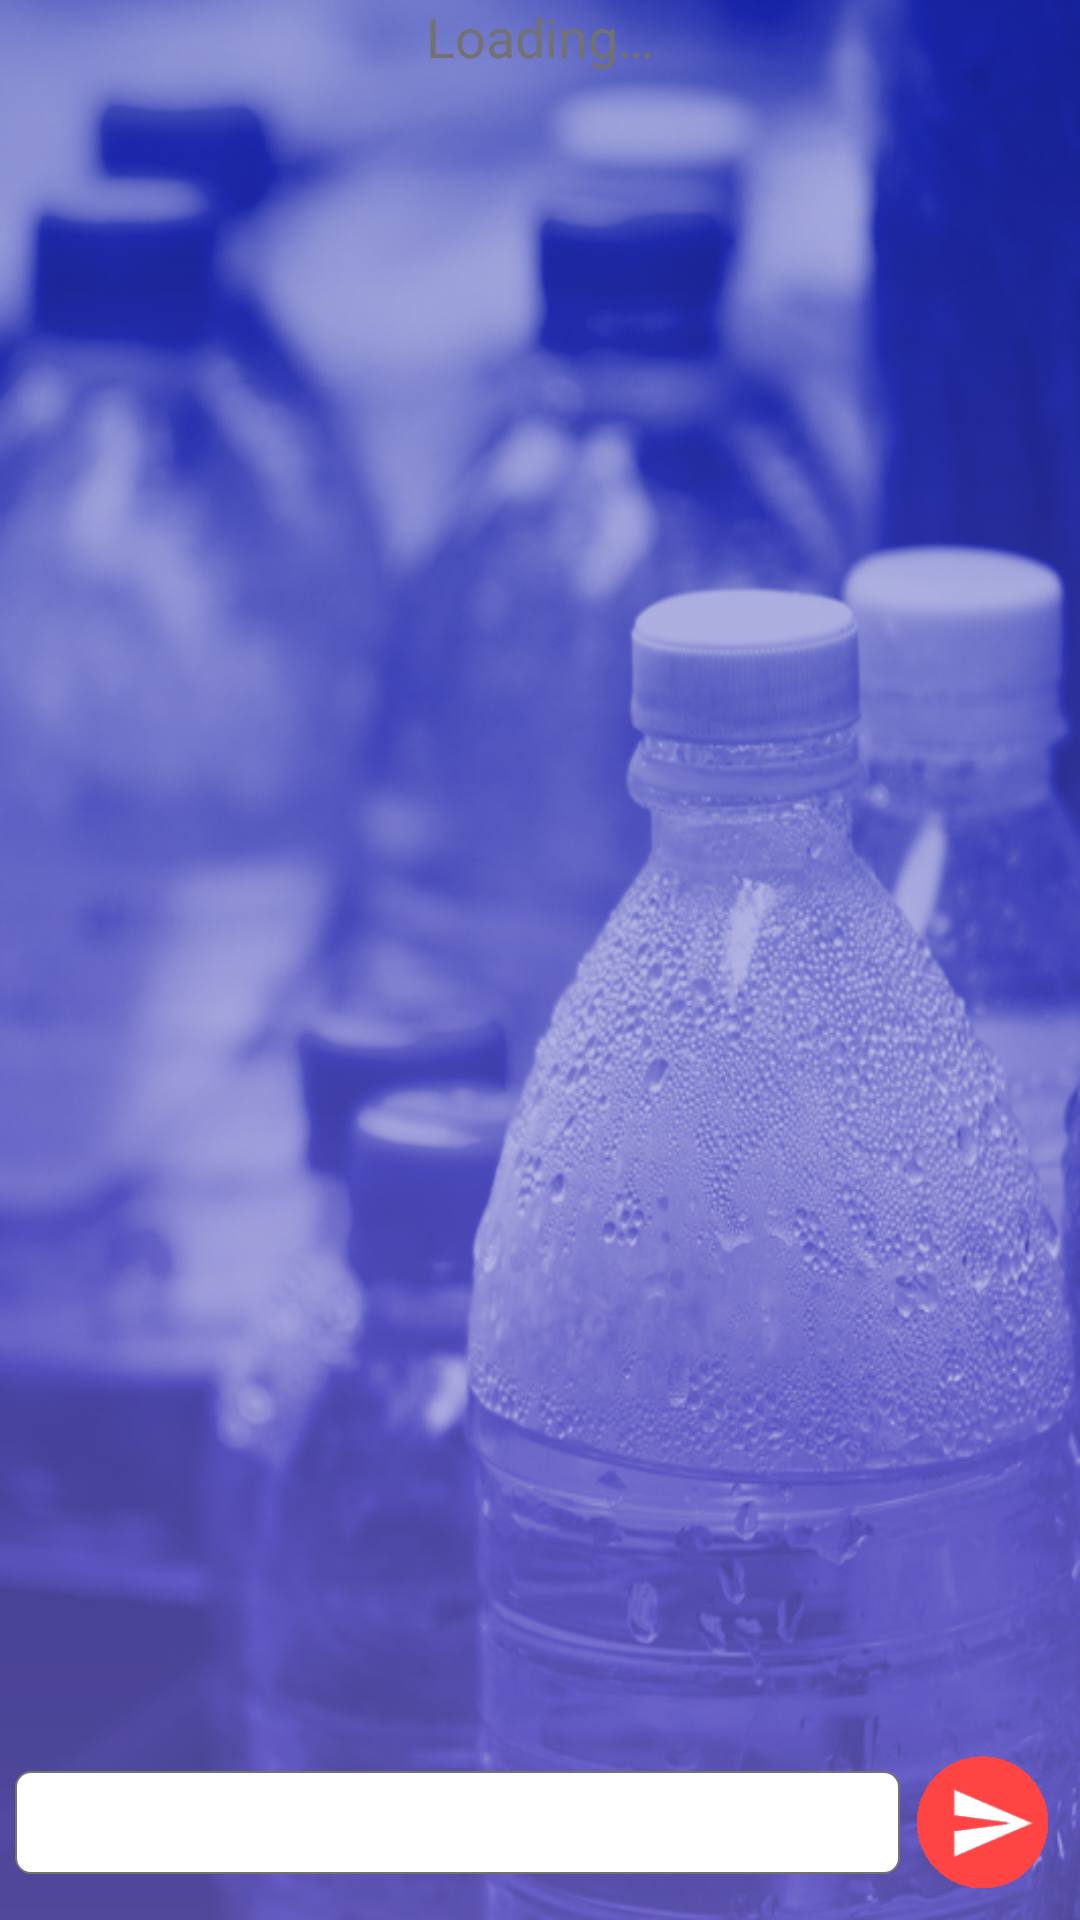

Screen size 1080x1920. Icon name, then its center in pixels as (x,y):
send: (990,1822)
